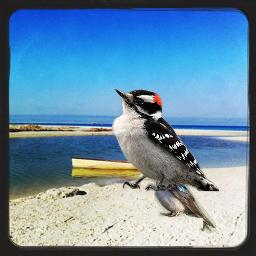Swallow: (154, 165, 216, 235)
Woodpecker: (111, 89, 219, 192)
